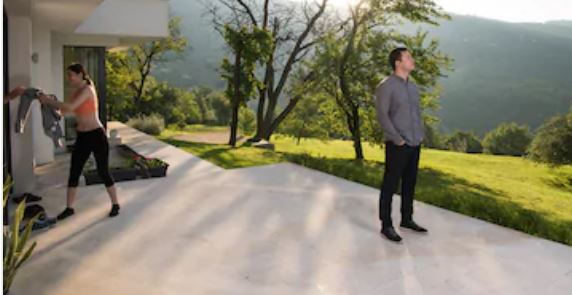Good: (62, 48, 426, 246)
